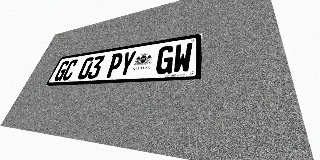0: (76, 57, 95, 80)
3: (86, 55, 105, 79)
C: (61, 59, 79, 81)
G: (154, 45, 175, 75), (53, 60, 71, 81)
P: (105, 52, 124, 78)
W: (172, 42, 193, 74)
Y: (117, 50, 137, 77)
